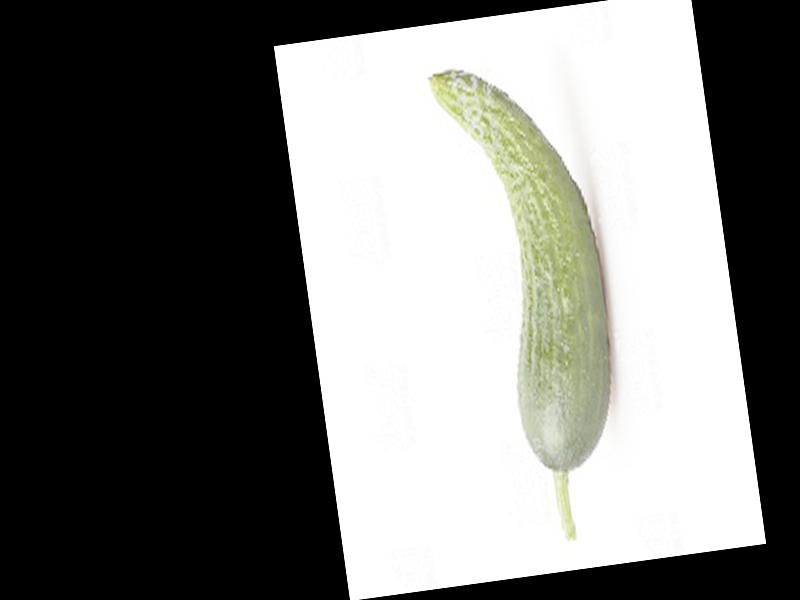Cucumber: (429, 52, 637, 551)
